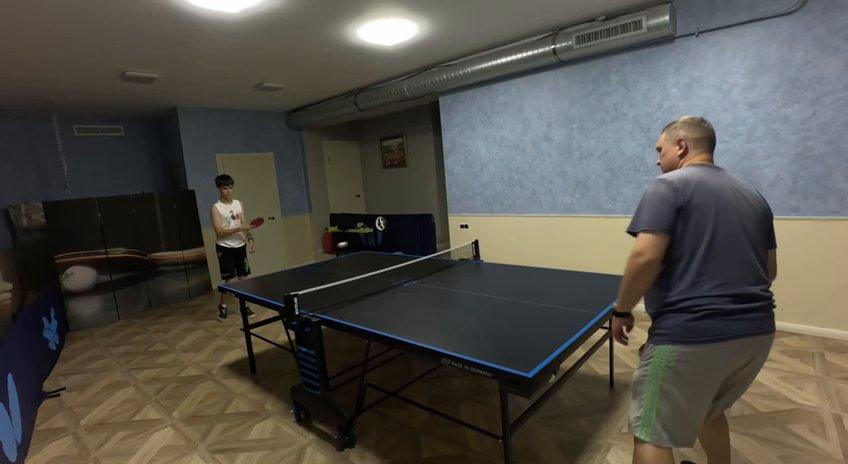Ball: (336, 239, 348, 253)
Net: (280, 241, 481, 325)
Player1: (210, 174, 250, 280)
Player2: (613, 117, 776, 463)
Table: (220, 250, 640, 376)
